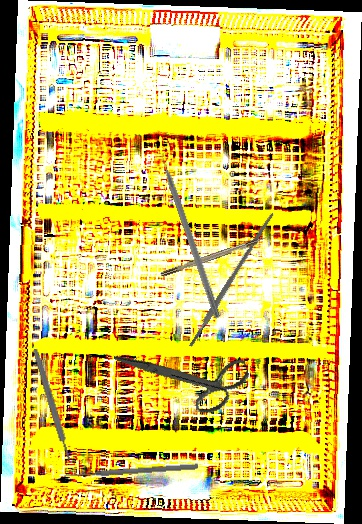Chopper: (155, 140, 230, 320)
Hook Surgical: (159, 231, 279, 278)
Iris Scissors: (112, 314, 258, 438)
Pusher: (62, 462, 199, 480)
Scalpel Handle: (186, 211, 276, 348), (31, 348, 73, 461)
